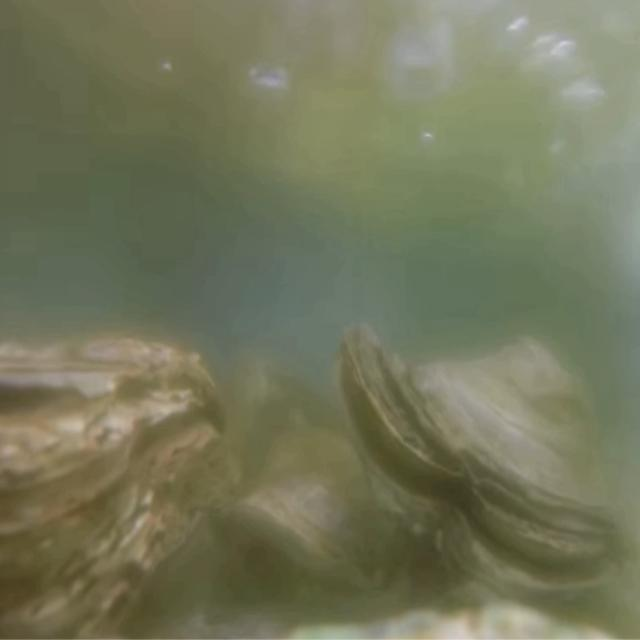Oyster-Closed: (0, 331, 244, 639)
Oyster-Indeterminate: (222, 426, 413, 604)
Oyster-Open: (336, 324, 640, 615)
